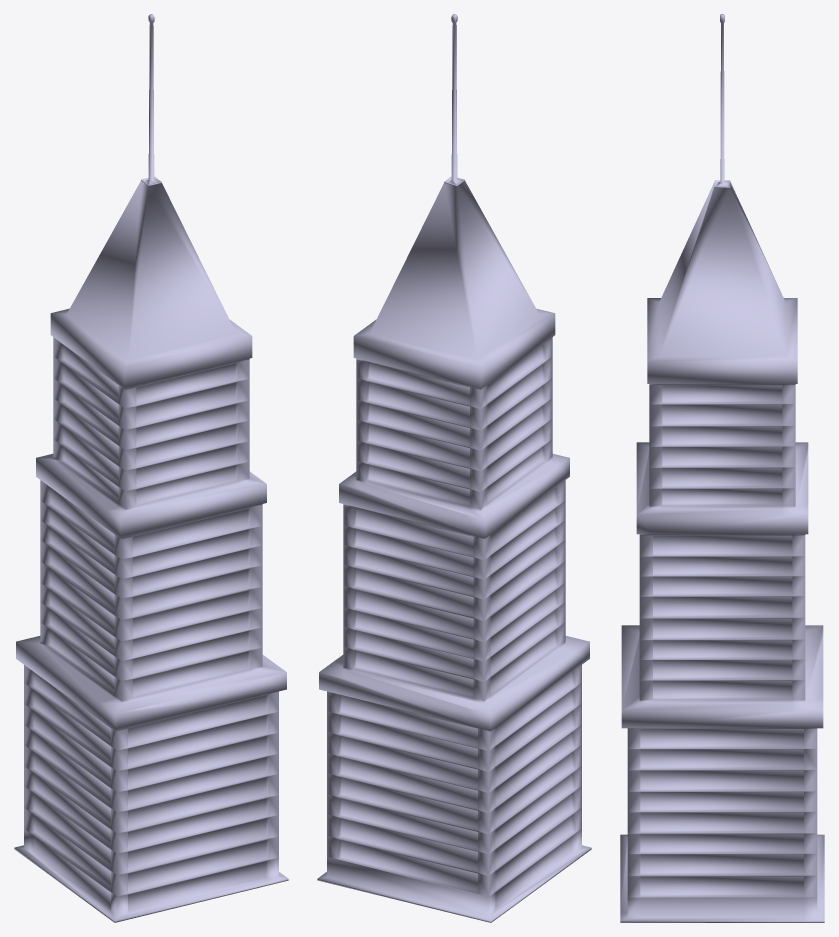
Rendered from building5.glb.
3 views of the same model, side by side, from view 1: azimuth 30°, elevation 25°; view 2: azimuth 150°, elevation 25°; view 3: azimuth 270°, elevation 25° (orthographic).
Parts seen in each view (by area): view 1: Skyscraper_6; view 2: Skyscraper_6; view 3: Skyscraper_6.
Boxes of the visible parts, x1,y1,x2,y2 form: Skyscraper_6: (14,14,288,922); Skyscraper_6: (317,14,591,922); Skyscraper_6: (620,14,824,922).
Bounding box in the file's own units: 4.82 × 22.55 × 4.82.
